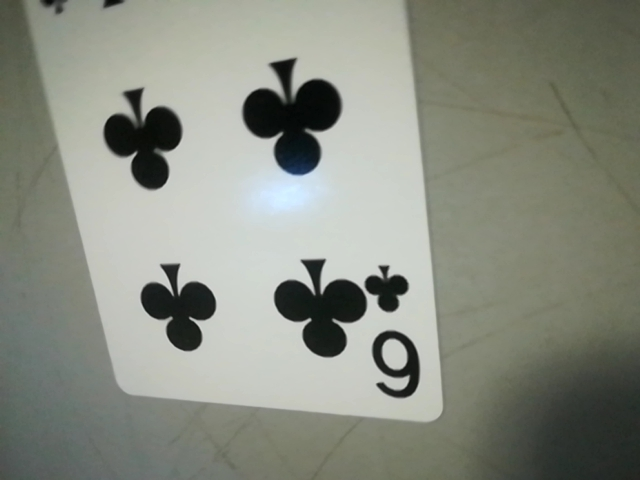mh 6: (361, 256, 434, 412)
